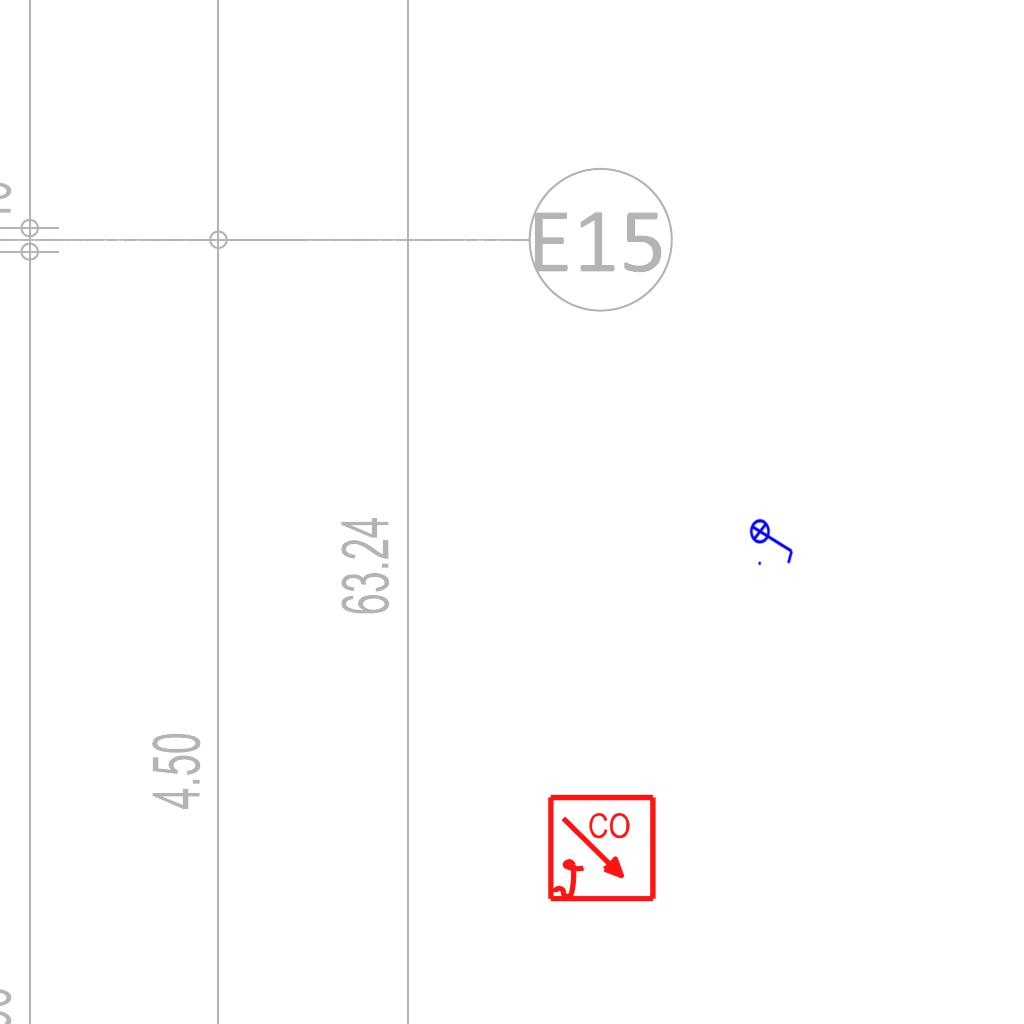Ausschalter_beleuchtet: (749, 512, 797, 568)
ROA_Rauchmelder_optisch_mit_Signalgeber_(Sockelsirene): (546, 793, 659, 906)
